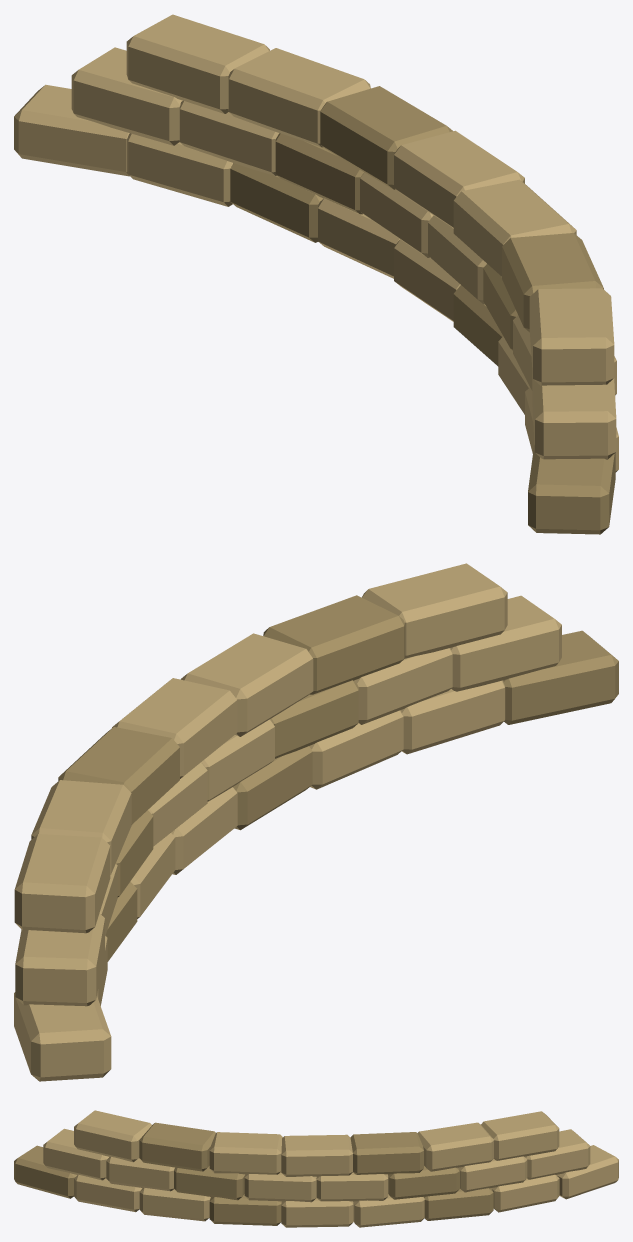
The model's file is sandsackar.glb.
3 views of the same model, one above another, from view 1: azimuth 30°, elevation 25°; view 2: azimuth 150°, elevation 25°; view 3: azimuth 270°, elevation 25° (orthographic). The views are drawn at different scales.
Parts seen in each view (by area): view 1: sandsackar; view 2: sandsackar; view 3: sandsackar.
Part boxes in pixels (left/top/right/bottom): sandsackar: left=14, top=14, right=618, bottom=534; sandsackar: left=14, top=563, right=618, bottom=1081; sandsackar: left=14, top=1110, right=618, bottom=1227.
Bounding box in the file's own units: 1.22 × 0.73 × 5.19.
